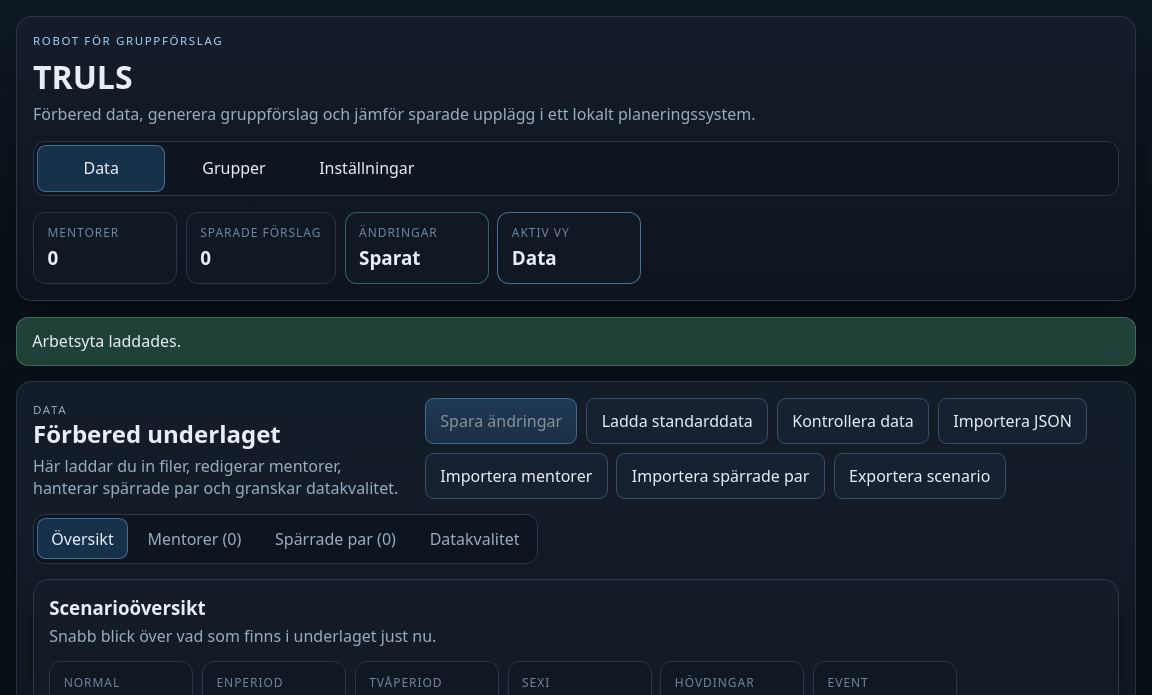
App › saves scenario changes explicitly from the data section
The image size is (1152, 695).
Expected: the text "Arbetsyta laddades." is shown, [16,317,1136,366]
Click the button "Mentorer (0)". click: x=194, y=539
box: [133,518,255,559]
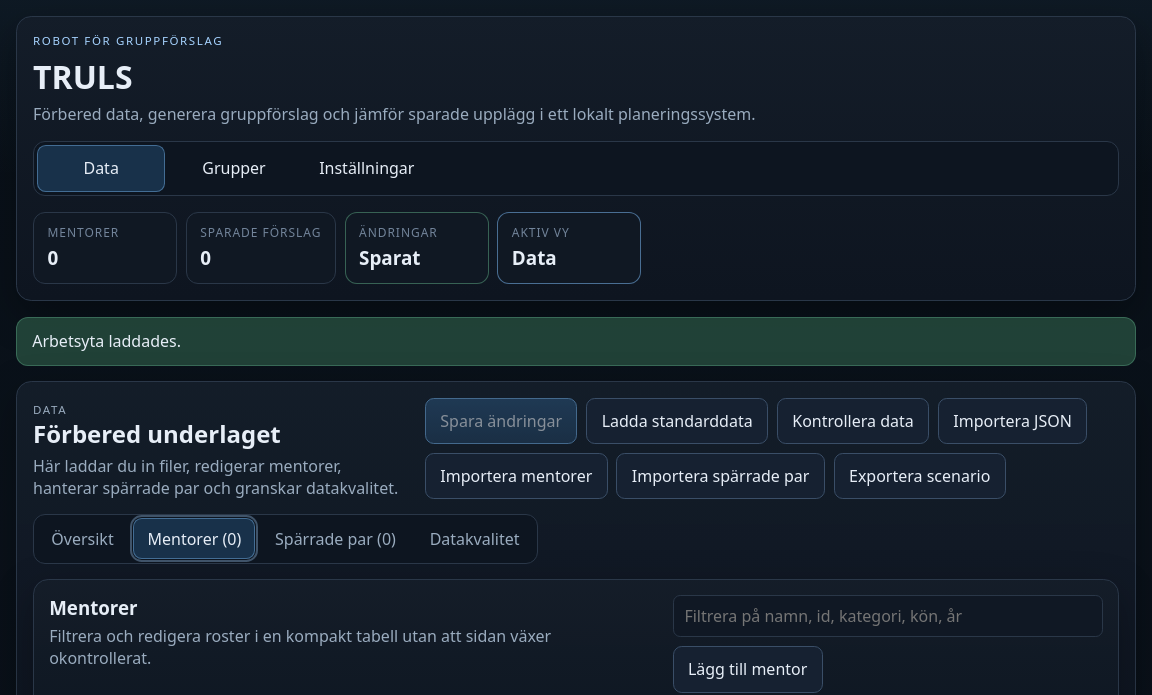
Click the button "Lägg till mentor". click: x=748, y=669
box: [672,646,823,693]
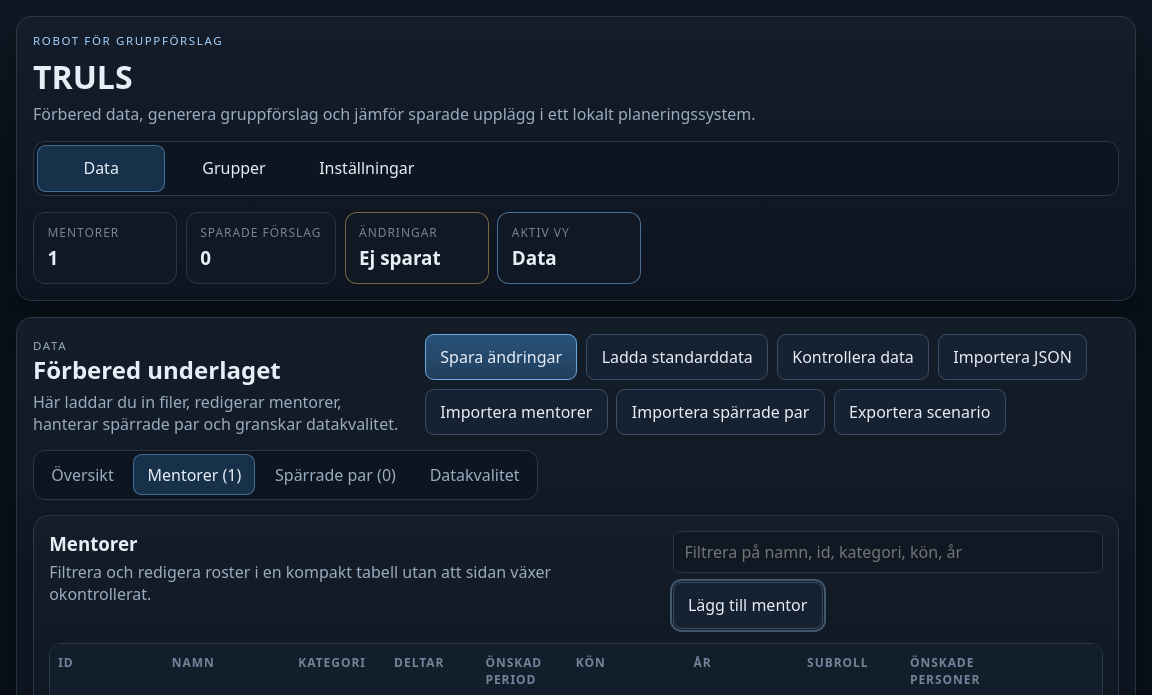
Click the button "Spara ändringar". click: x=501, y=357
box: [425,334,578,380]
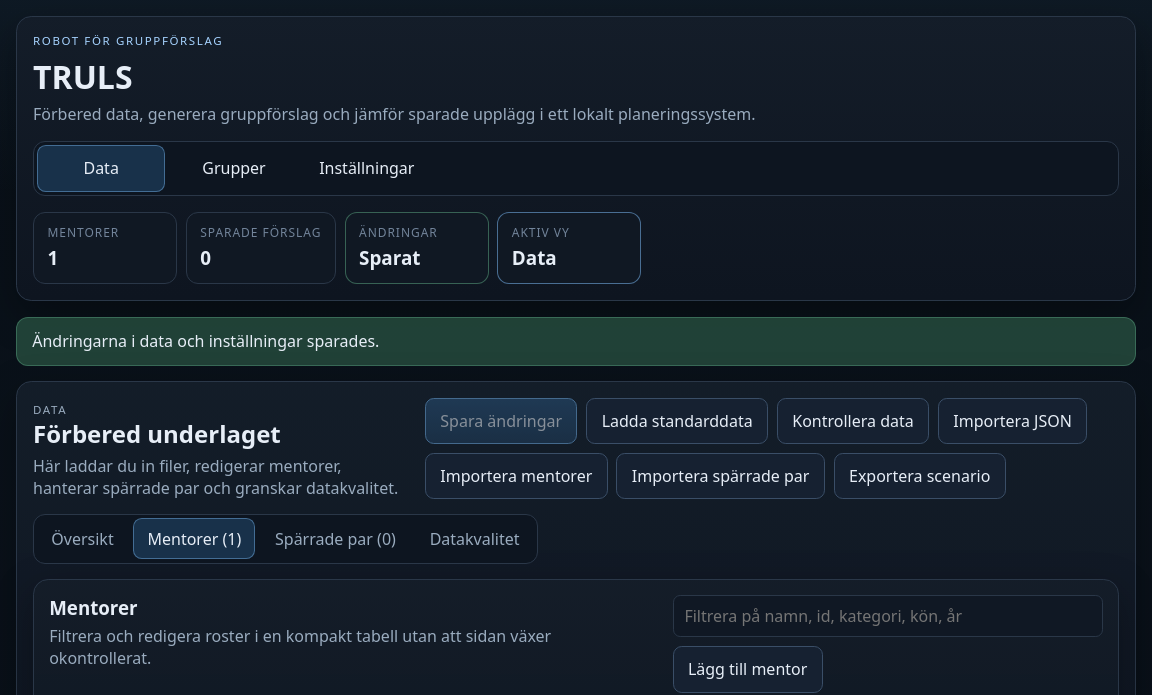
Expected: the text "Ändringarna i data och inställningar sparades." is shown, [16,317,1136,366]
